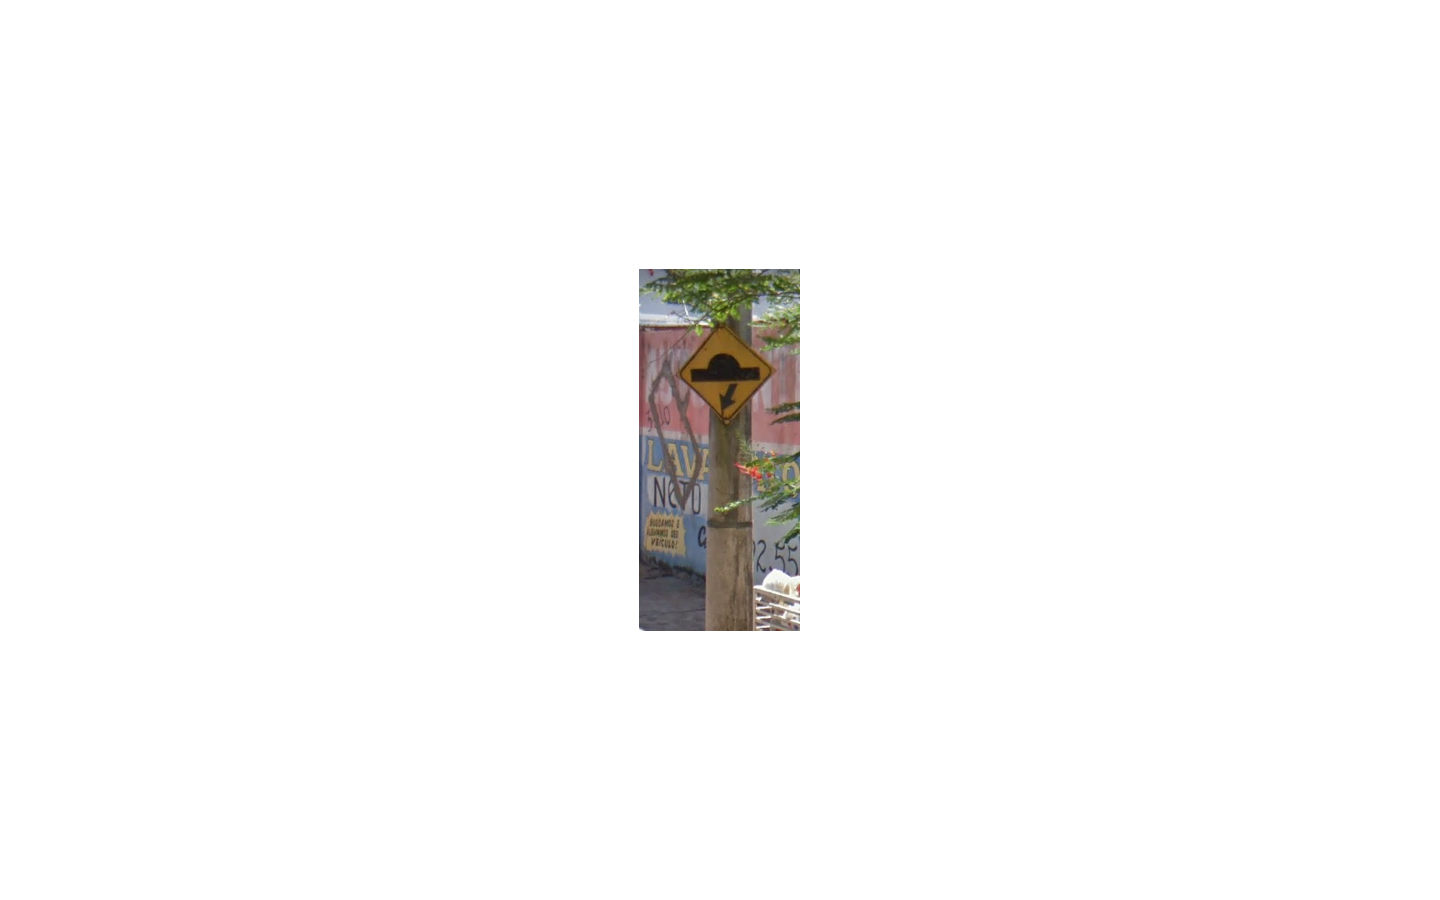lomb: (676, 324, 777, 424)
